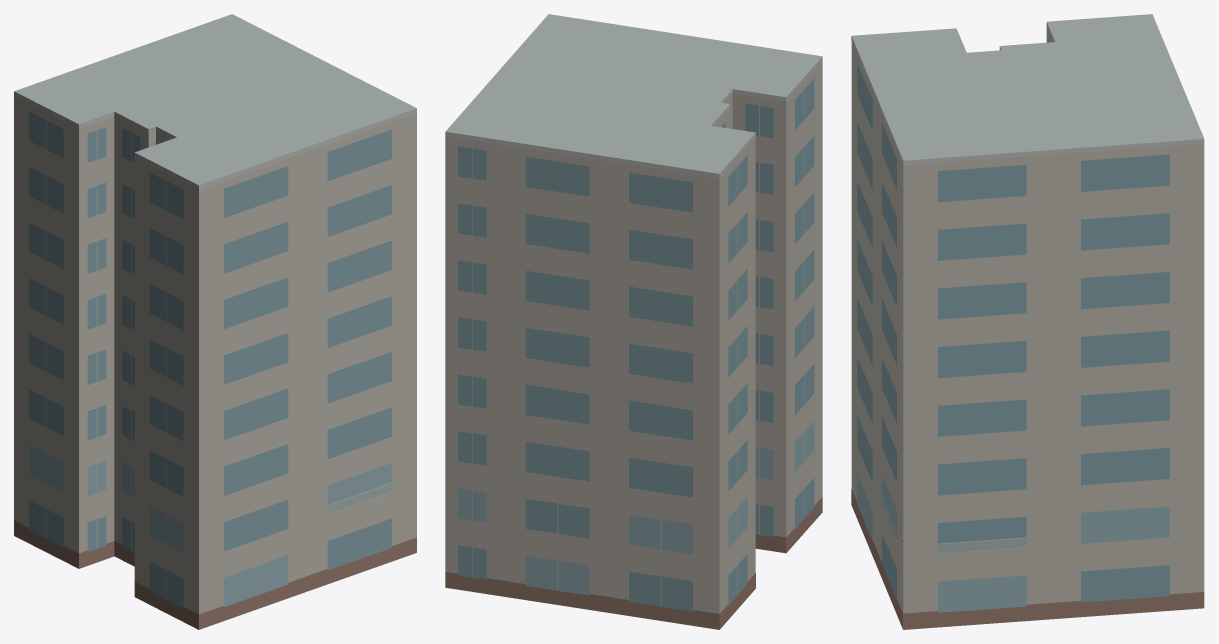
The model's file is survey-upis-32748874.glb.
3 renders of one model, left to right at view 1: azimuth 30°, elevation 25°; view 2: azimuth 150°, elevation 25°; view 3: azimuth 270°, elevation 25°, orthographic. The views are drawn at different scales.
Visible parts, largest first — view 1: survey-upis-32748874.tmp; view 2: survey-upis-32748874.tmp; view 3: survey-upis-32748874.tmp.
Boxes of the visible parts, x1,y1,x2,y2 form: survey-upis-32748874.tmp: (14,14,416,629); survey-upis-32748874.tmp: (445,14,822,629); survey-upis-32748874.tmp: (851,14,1204,629).
Bounding box in the file's own units: 16.35 × 24.38 × 16.63.
